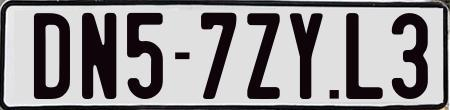3: (392, 13, 428, 101)
5: (124, 11, 164, 101)
7: (199, 12, 237, 98)
D: (34, 12, 76, 99)
L: (345, 11, 384, 97)
N: (80, 10, 118, 96)
Y: (287, 11, 323, 101)
Z: (247, 12, 284, 100)
